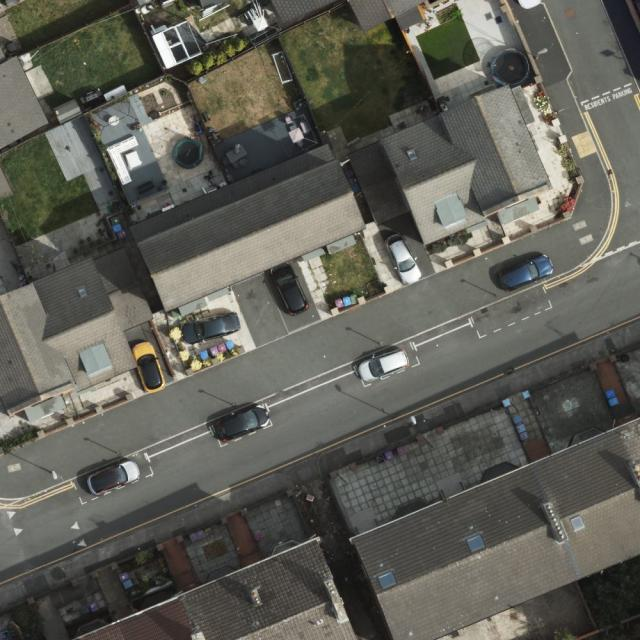roof: (348, 412, 640, 638), (132, 143, 368, 312), (346, 87, 553, 247), (71, 539, 358, 640), (1, 251, 157, 416), (0, 51, 50, 149), (271, 3, 345, 32), (352, 0, 420, 30)
skylight: (373, 568, 401, 592), (464, 531, 489, 555), (570, 512, 588, 535), (72, 283, 91, 301), (402, 145, 419, 164)
